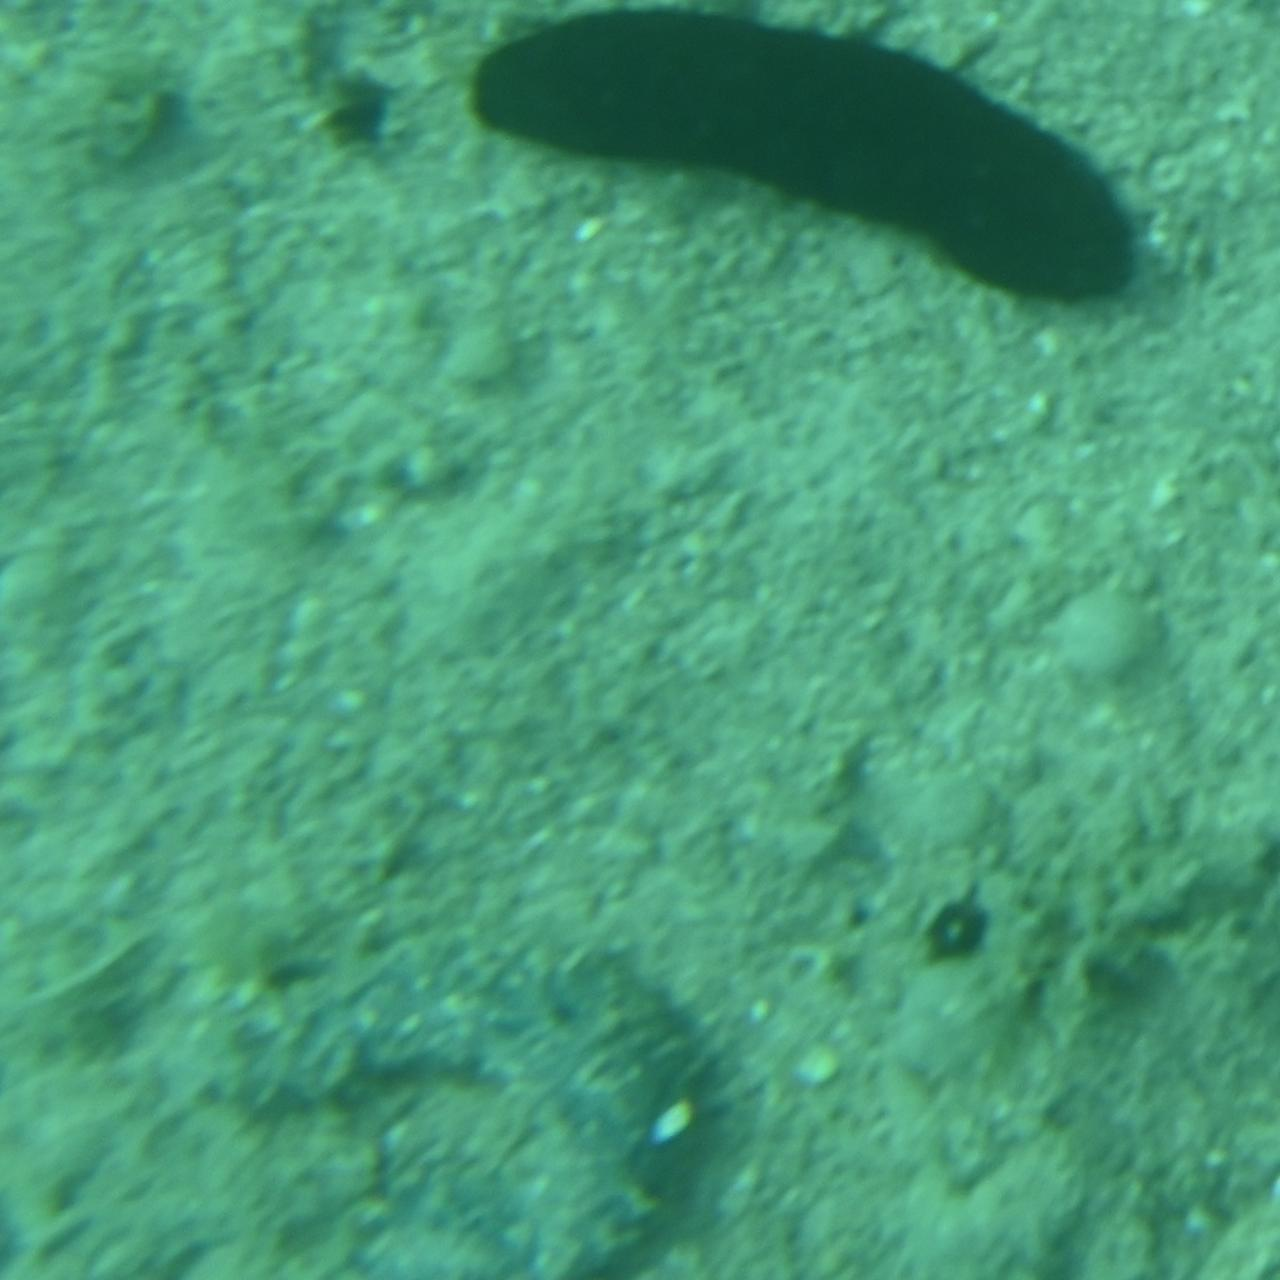Holothuria tubulosa: (461, 2, 1141, 322), (222, 930, 736, 1280)
